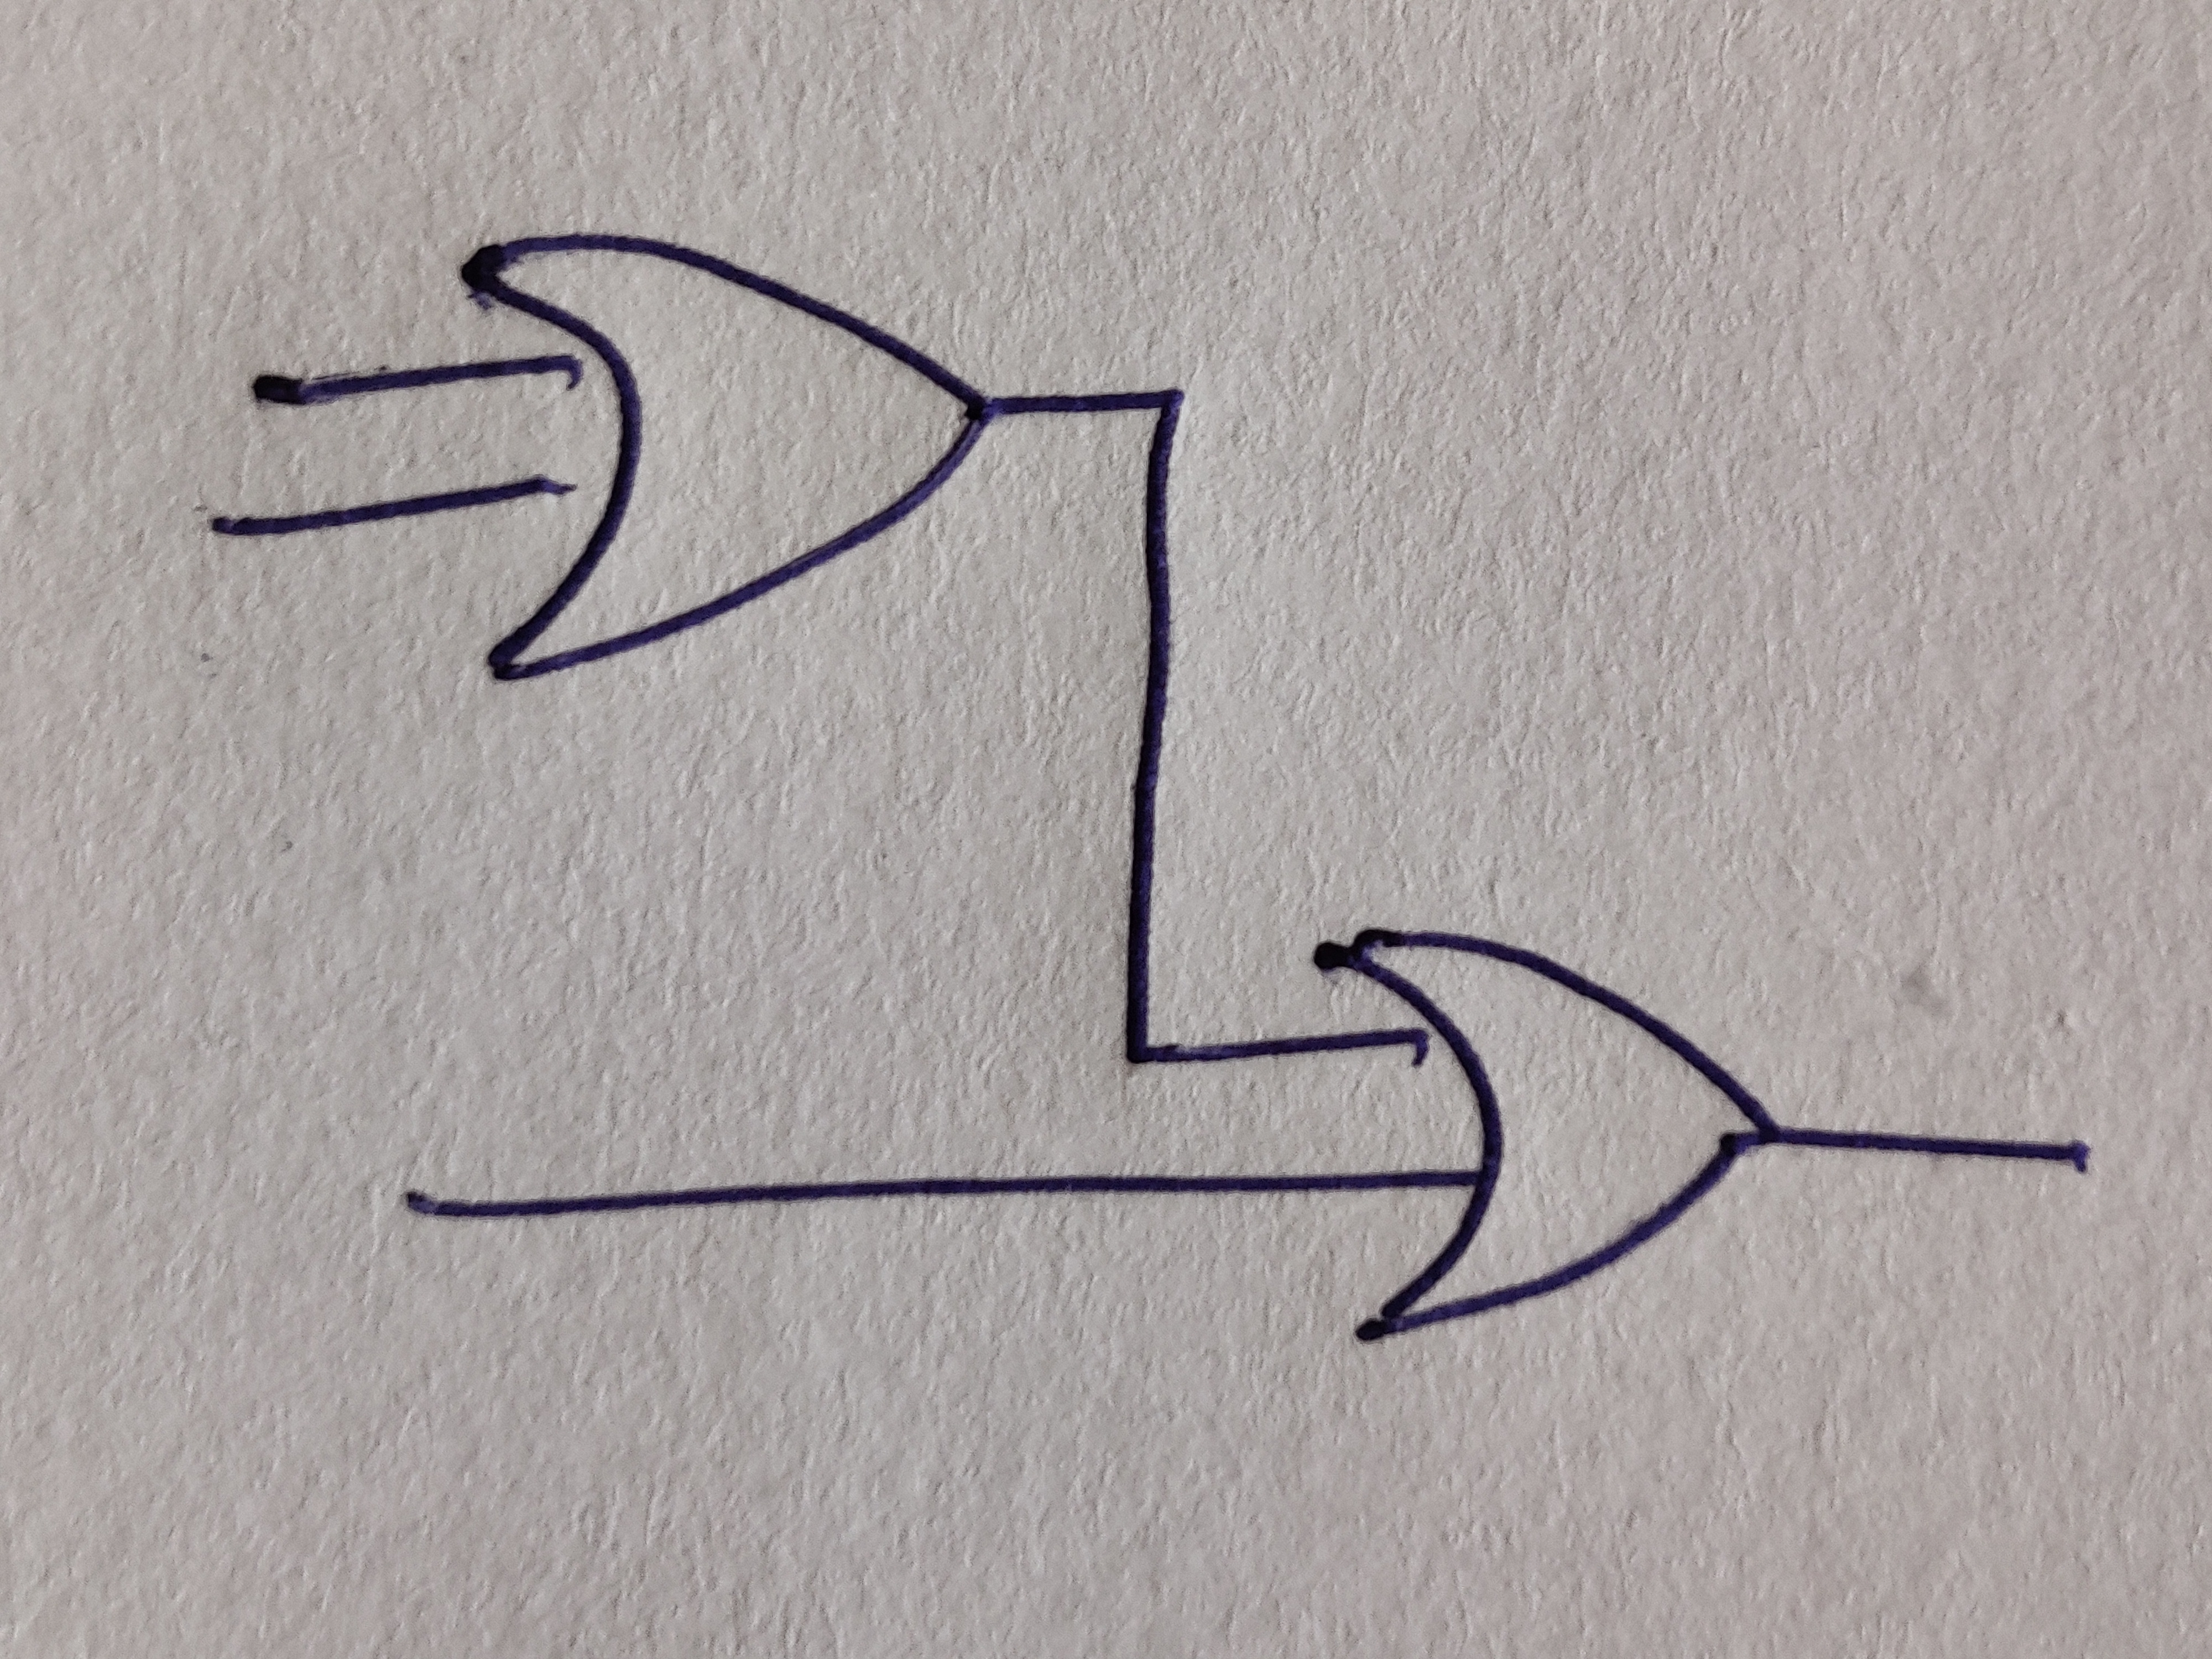or: (460, 235, 993, 681), (1313, 929, 1778, 1342)
